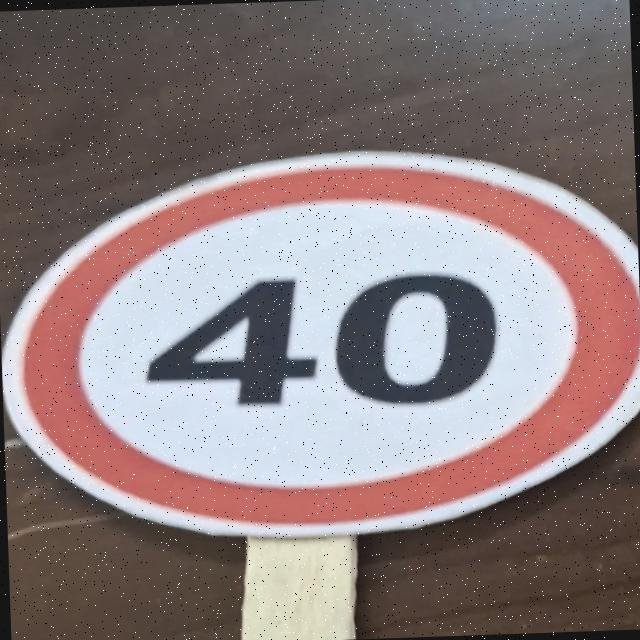Speed40: (0, 131, 640, 552)
